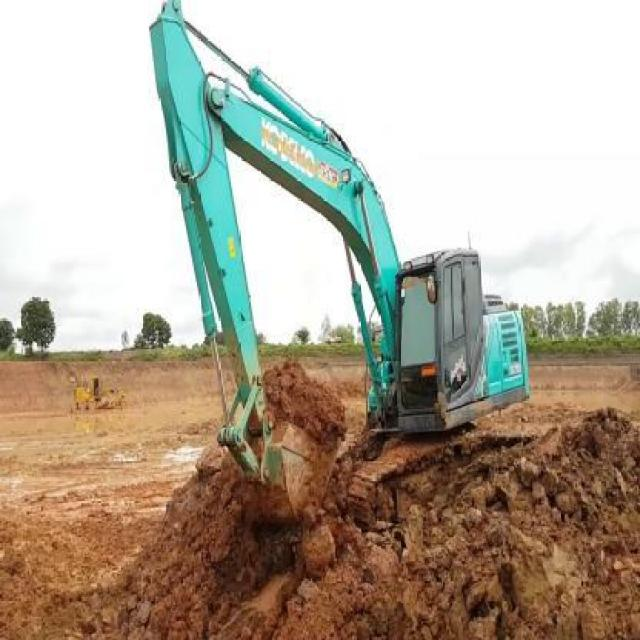Excavator: (147, 0, 536, 542)
